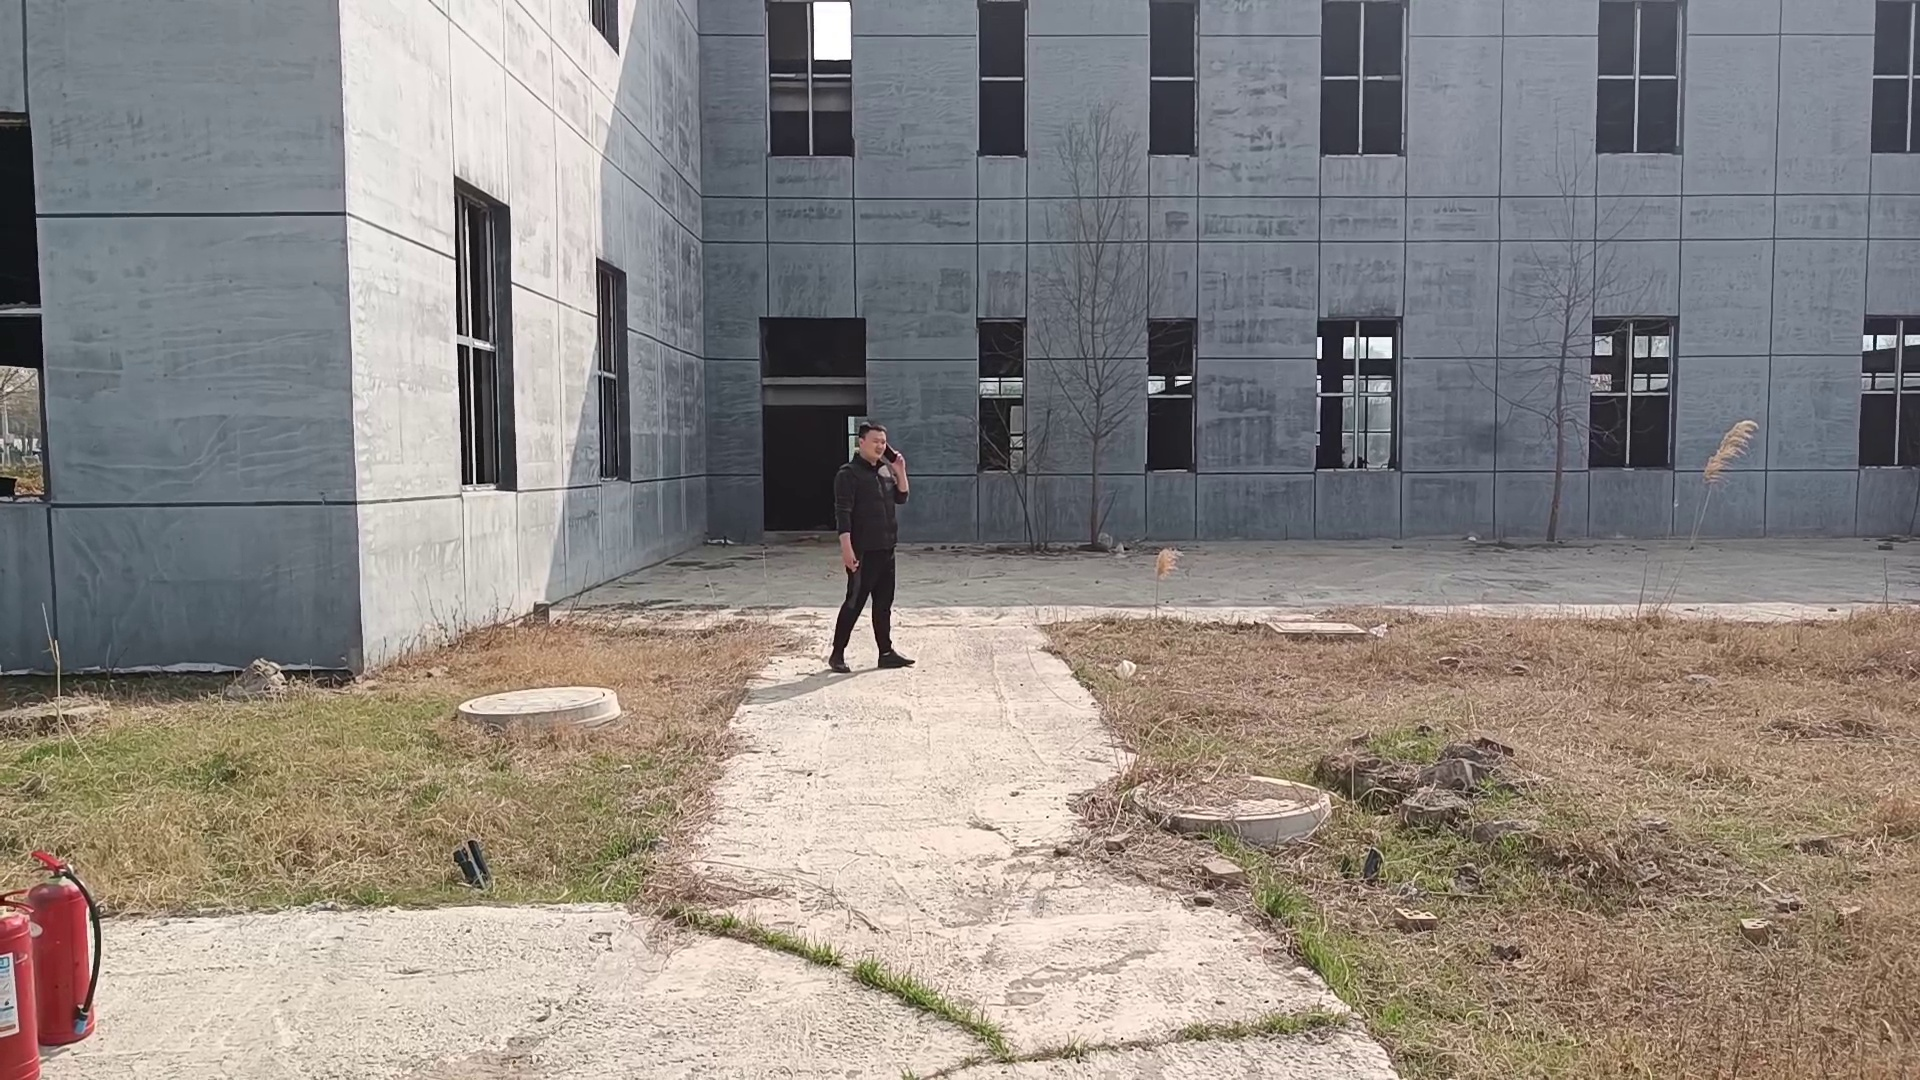phone: (860, 415, 905, 475)
